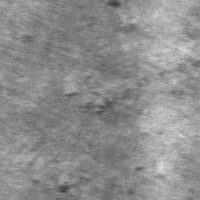rolled-in_scale: (61, 69, 144, 123), (19, 151, 80, 194)
